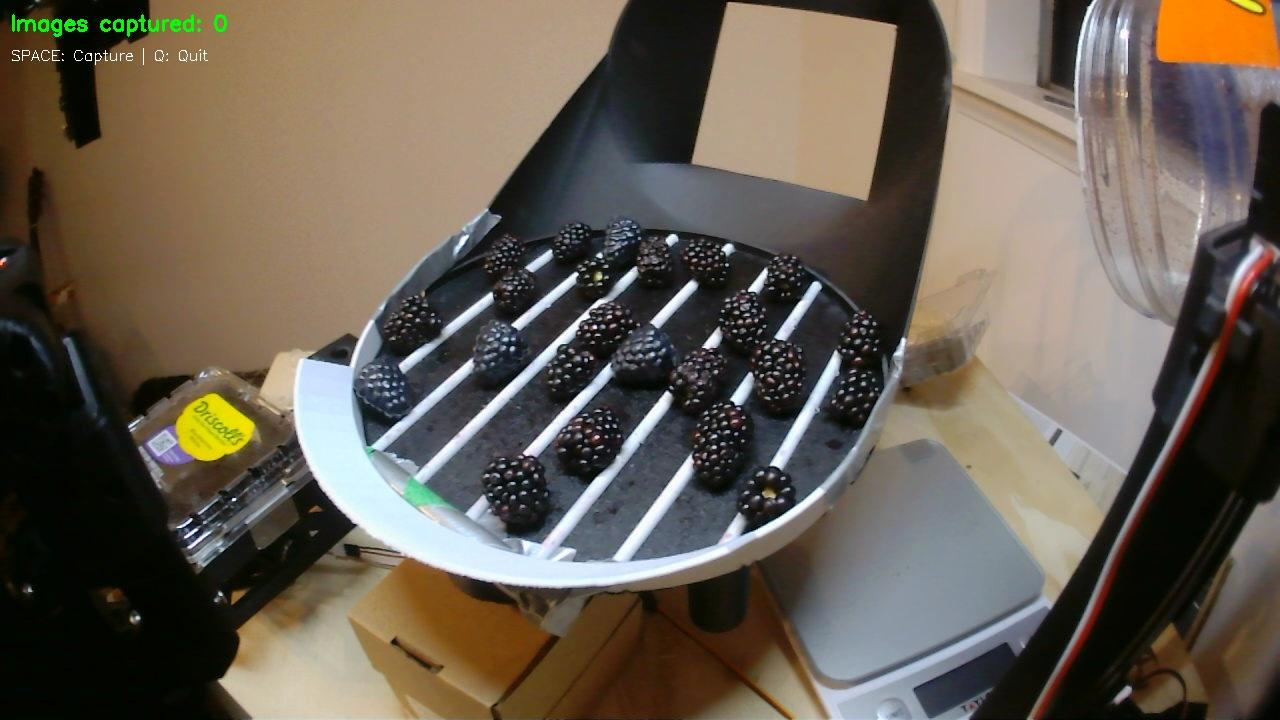berry: (691, 401, 753, 489), (482, 456, 550, 531), (557, 407, 623, 477), (751, 339, 806, 415), (611, 324, 677, 386), (353, 359, 415, 421), (668, 348, 726, 414), (381, 291, 442, 353), (574, 302, 637, 360), (738, 465, 796, 528), (474, 320, 528, 385), (826, 369, 882, 428), (718, 290, 766, 356), (544, 344, 597, 399), (838, 310, 882, 366), (680, 239, 729, 286), (762, 254, 809, 302), (493, 268, 537, 316), (602, 217, 642, 269), (636, 236, 673, 287), (484, 234, 523, 281), (551, 222, 591, 264), (577, 257, 617, 298)
